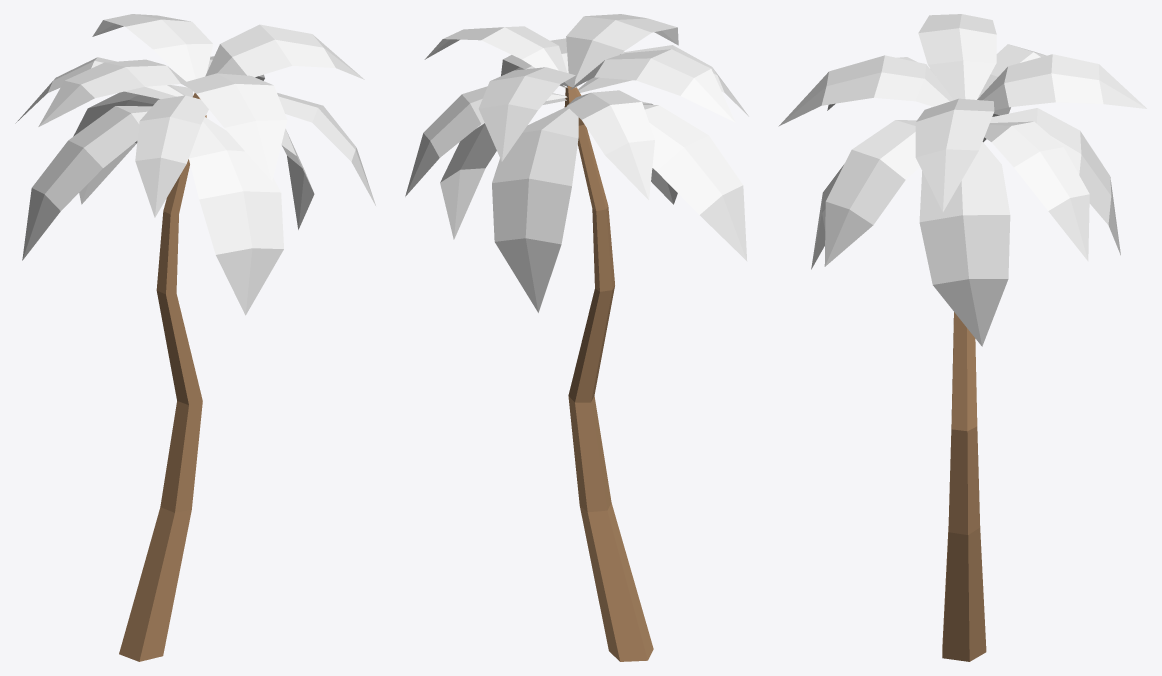
The model's file is Palm_Tree_OneSided_l_Snow_04_LOD.fbx.
3 renders of one model, left to right at view 1: azimuth 30°, elevation 25°; view 2: azimuth 150°, elevation 25°; view 3: azimuth 270°, elevation 25°, orthographic. The views are drawn at different scales.
Visible parts, largest first — view 1: Palm_Tree_OneSided_l_Snow_04_LOD0; view 2: Palm_Tree_OneSided_l_Snow_04_LOD0; view 3: Palm_Tree_OneSided_l_Snow_04_LOD0.
Boxes of the visible parts, box(x1,y1,x2,y2) form: Palm_Tree_OneSided_l_Snow_04_LOD0: box(15, 14, 375, 661); Palm_Tree_OneSided_l_Snow_04_LOD0: box(405, 14, 748, 661); Palm_Tree_OneSided_l_Snow_04_LOD0: box(778, 14, 1146, 661).
Size of what is drawn, in the model's own units: 475 by 809 by 440.
